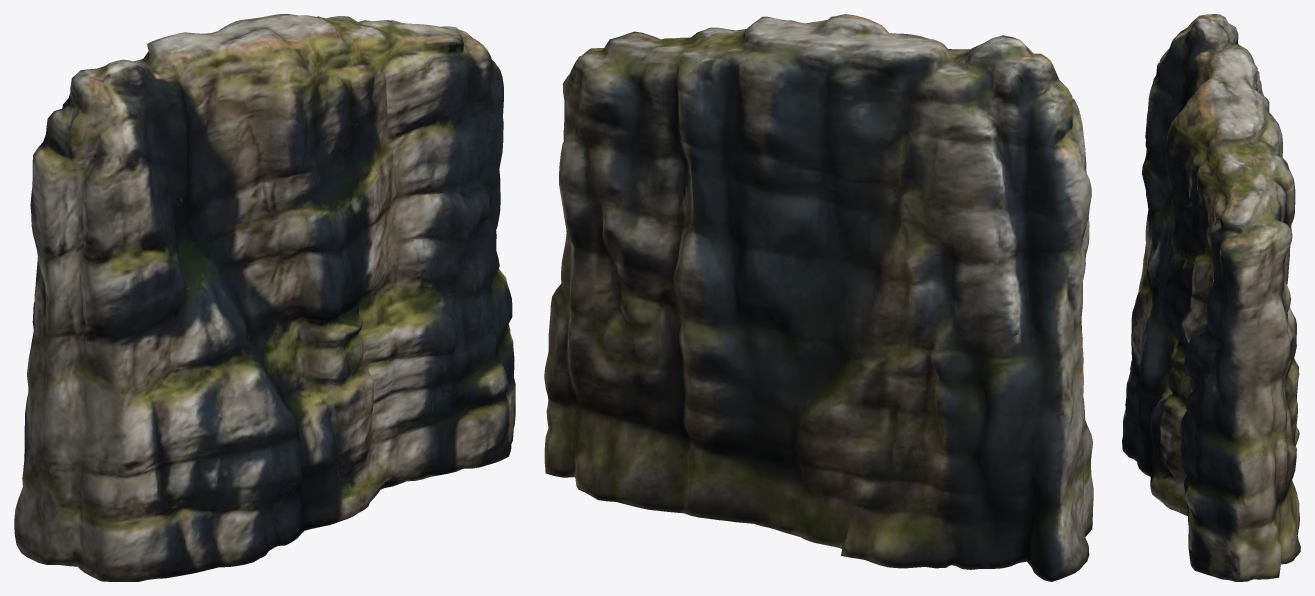
The picture shows the model from 3 angles, left to right: view 1: azimuth 30°, elevation 25°; view 2: azimuth 150°, elevation 25°; view 3: azimuth 270°, elevation 25°; orthographic projection. The views are drawn at different scales.
Size of the model in its own units: 2 by 1.85 by 0.7554.
1 material, 1 textured.
